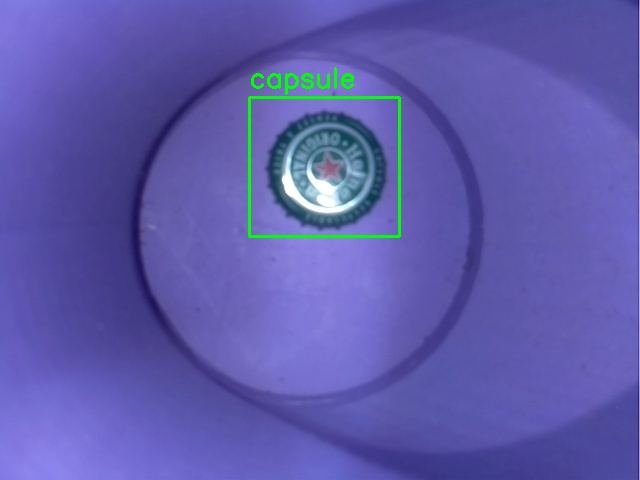capsule: (249, 97, 399, 236)
